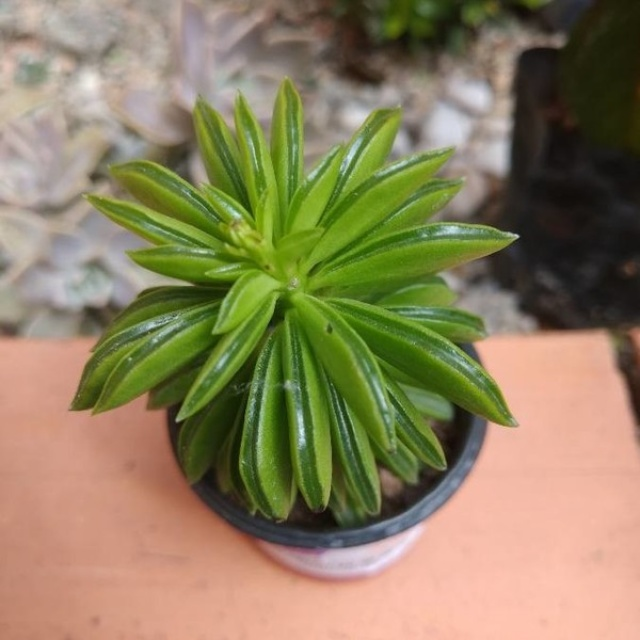obstacle: (45, 75, 515, 581)
